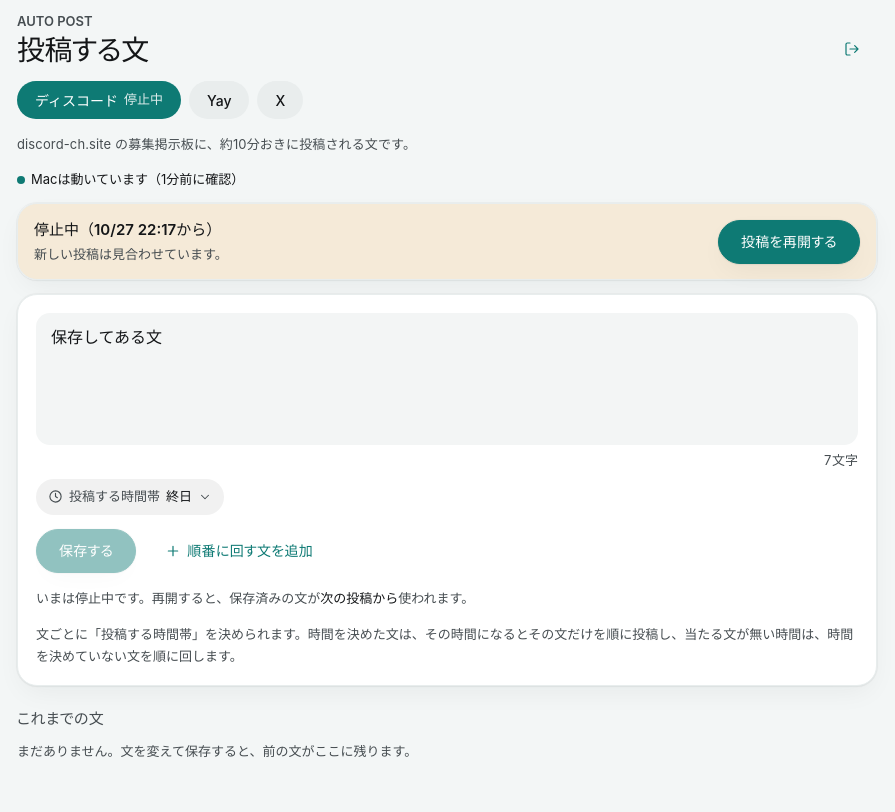
Scenario: AutoPostView › 投稿を止める／再開する › 止めている間に文を直しても、「再開したあとの投稿から」と案内する
Replace the text in the text box with "直した文" at (447, 379), box [36,313,858,445]
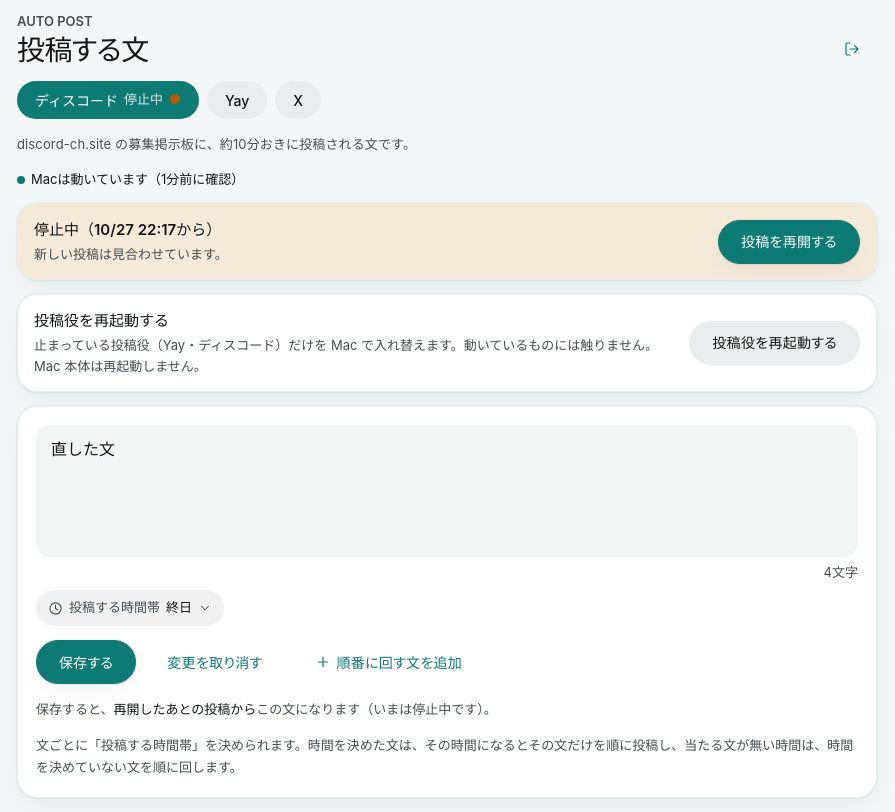
Check: the text "再開したあとの投稿から" is shown, box [114,701,256,717]
